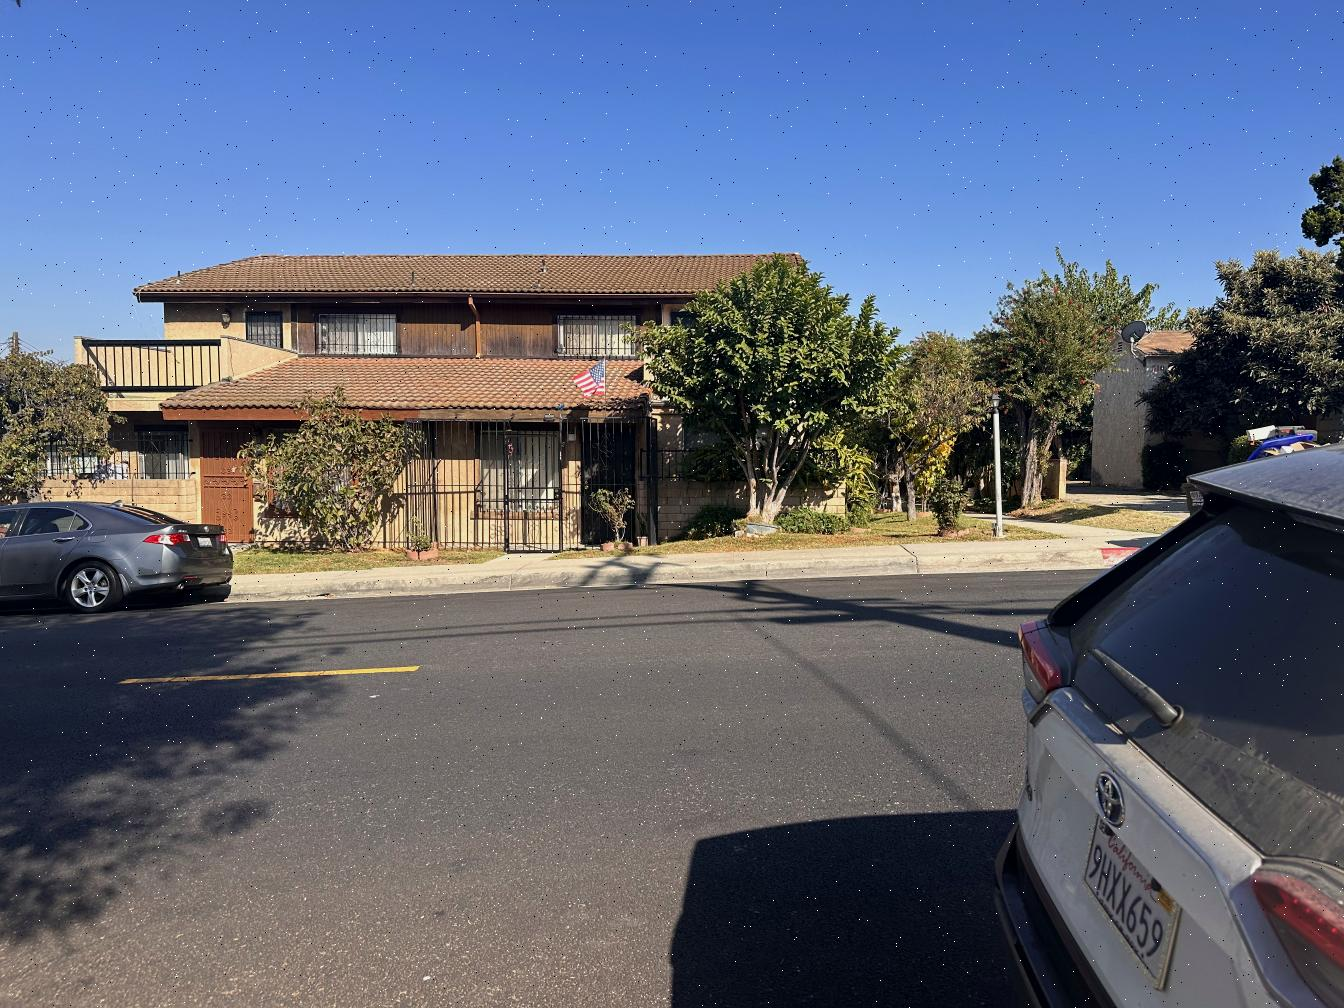curbs-laRr: (688, 545, 1106, 577), (460, 565, 701, 594), (247, 576, 451, 604)
